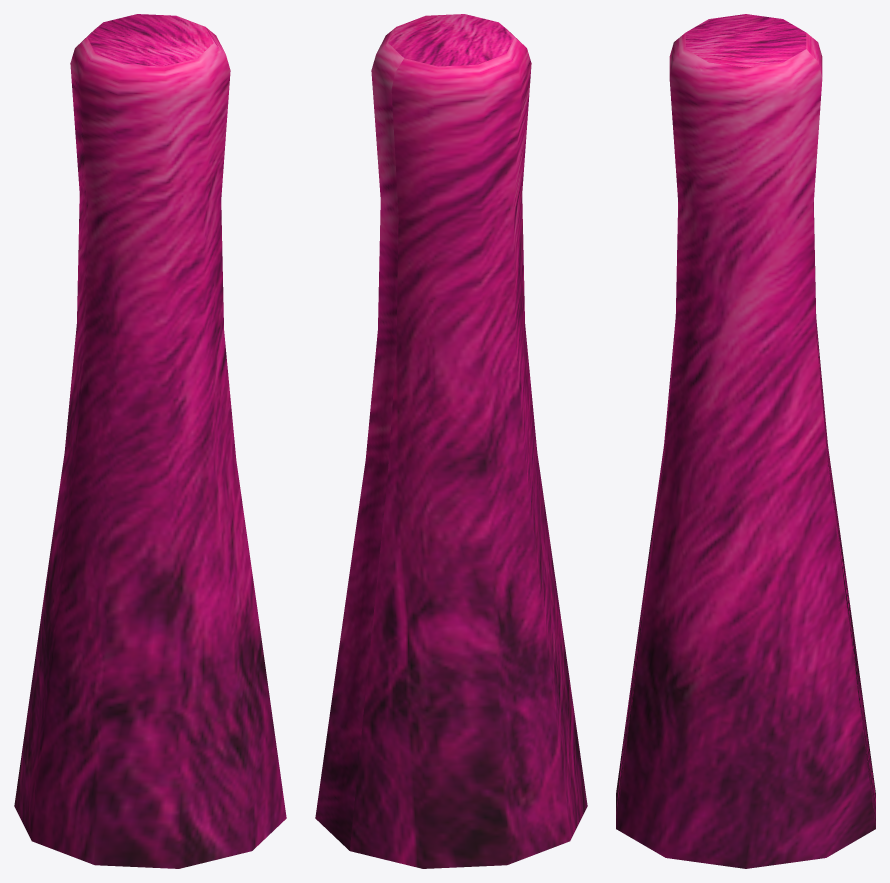
Rendered from furryPinkTale.fbx.
The picture shows the model from 3 angles, left to right: view 1: azimuth 30°, elevation 25°; view 2: azimuth 150°, elevation 25°; view 3: azimuth 270°, elevation 25°; orthographic projection.
Parts seen in each view (by area): view 1: polySurface26; view 2: polySurface26; view 3: polySurface26.
Boxes of the visible parts, box(x1,y1,x2,y2) form: polySurface26: box(14, 14, 286, 868); polySurface26: box(315, 14, 587, 868); polySurface26: box(616, 14, 875, 868).
Size of the model in its own units: 0.7719 by 2.4 by 0.7341.
